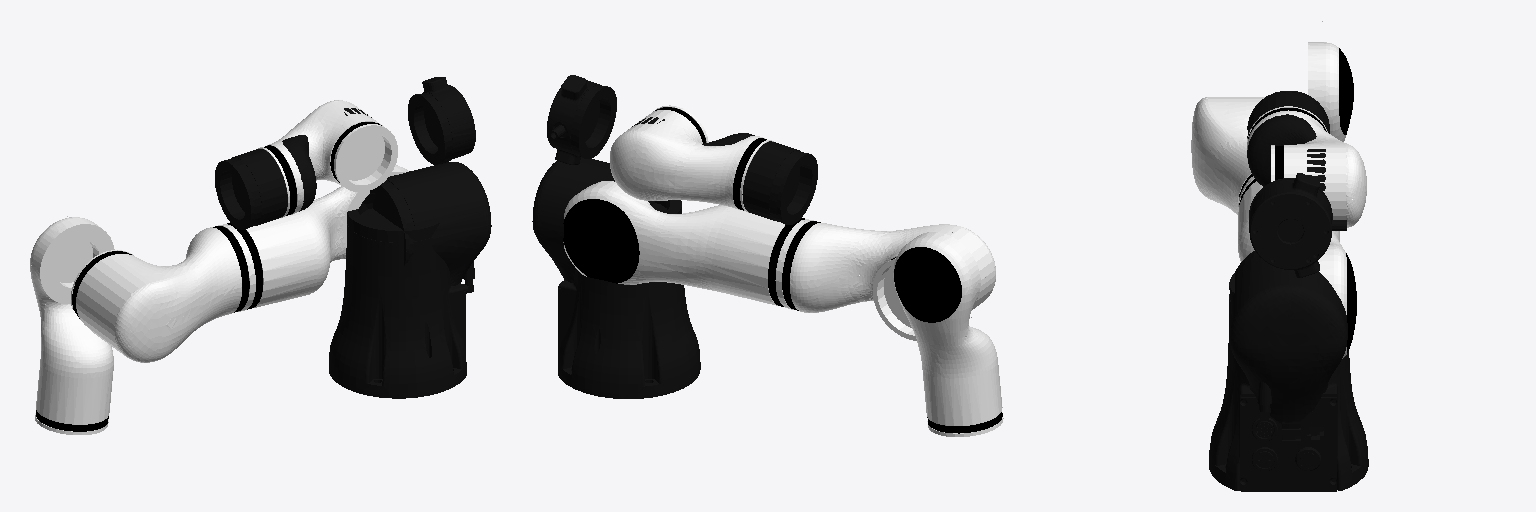
URDF robot description (piper_description):
<?xml version="1.0" ?>
<robot name="piper_description">

  <mujoco>
    <compiler meshdir="meshes" balanceinertia="true" discardvisual="false"/>
  </mujoco>

  <link name="base_link">
    <inertial>
      <origin xyz="-0.00979274765955341 1.82905827587138E-06 0.0410100126360189" rpy="0 0 0"/>
      <mass value="0.162548567403693"/>
      <inertia ixx="0.000226596924525071" ixy="-7.33972270153965E-08" ixz="2.13249977802622E-06" iyy="0.000269444772561524" iyz="8.15169009611054E-09" izz="0.000222318258878636"/>
    </inertial>
    <visual>
      <origin xyz="0 0 0" rpy="0 0 0"/>
      <geometry>
        <mesh filename="meshes/base_link.dae"/>
      </geometry>
      <material name="black">
        <color rgba="0.1 0.1 0.1 1"/>
      </material>
    </visual>
    <collision>
      <origin xyz="0 0 0" rpy="0 0 0"/>
      <geometry>
        <mesh filename="meshes/base_link.STL"/>
      </geometry>
    </collision>
  </link>
  <link name="link1">
    <inertial>
      <origin xyz="0.00131676031927024 0.000310288842008612 -0.00922874512303437" rpy="0 0 0"/>
      <mass value="0.0978679932242825"/>
      <inertia ixx="7.76684558296782E-05" ixy="1.09084650459924E-07" ixz="-1.9748053243241E-06" iyy="9.24967780161547E-05" iyz="9.91284646834582E-07" izz="8.24589062407807E-05"/>
    </inertial>
    <visual>
      <origin xyz="0 0 0" rpy="0 0 0"/>
      <geometry>
        <mesh filename="meshes/link1.dae"/>
      </geometry>
      <material name="black">
        <color rgba="0.1 0.1 0.1 1"/>
      </material>
    </visual>
    <collision>
      <origin xyz="0 0 0" rpy="0 0 0"/>
      <geometry>
        <mesh filename="meshes/link1.STL"/>
      </geometry>
    </collision>
  </link>
  <joint name="joint1" type="revolute">
    <origin xyz="0 0 0.123" rpy="0 0 -1.5708"/>
    <parent link="base_link"/>
    <child link="link1"/>
    <axis xyz="0 0 1"/>
    <limit lower="-2.618" upper="2.618" effort="100" velocity="3"/>
  </joint>
  <link name="link2">
    <inertial>
      <origin xyz="0.148793602378802 -0.00242026983944119 0.00175154638467948" rpy="0 0 0"/>
      <mass value="0.290888938633388"/>
      <inertia ixx="0.000148959640166183" ixy="-7.37750384371657E-05" ixz="-9.68688405196236E-07" iyy="0.00172800946632652" iyz="-1.09692225564224E-06" izz="0.0017754628344594"/>
    </inertial>
    <visual>
      <origin xyz="0 0 0" rpy="0 0 0"/>
      <geometry>
        <mesh filename="meshes/link2.dae"/>
      </geometry>
    </visual>
    <collision>
      <origin xyz="0 0 0" rpy="0 0 0"/>
      <geometry>
        <mesh filename="meshes/link2.STL"/>`
      </geometry>
    </collision>
  </link>
  <joint name="joint2" type="revolute">
    <origin xyz="0 0 0" rpy="1.5708 0 -1.5708"/>
    <parent link="link1"/>
    <child link="link2"/>
    <axis xyz="0 0 1"/>
    <limit lower="0" upper="3.14" effort="100" velocity="3"/>
  </joint>
  <link name="link3">
    <inertial>
      <origin xyz="-0.0996835215213704 0.0349477226691318 0.000508025815507312" rpy="0 0 0"/>
      <mass value="0.290847697793211"/>
      <inertia ixx="0.000107879011637167" ixy="2.92669521203626E-05" ixz="6.825922326238E-07" iyy="0.000214751671792086" iyz="-7.78469047878196E-07" izz="0.000241923439340319"/>
    </inertial>
    <visual>
      <origin xyz="0 0 0" rpy="0 0 0"/>
      <geometry>
        <mesh filename="meshes/link3.dae"/>
      </geometry>
    </visual>
    <collision>
      <origin xyz="0 0 0" rpy="0 0 0"/>
      <geometry>
        <mesh filename="meshes/link3.STL"/>
      </geometry>
    </collision>
  </link>
  <joint name="joint3" type="revolute">
    <origin xyz="0.28358 0.028726 0" rpy="0 0 0.10095"/>
    <parent link="link2"/>
    <child link="link3"/>
    <axis xyz="0 0 1"/>
    <limit lower="-2.697" upper="2.697" effort="100" velocity="3"/>
  </joint>
  <link name="link4">
    <inertial>
      <origin xyz="0.000276464622387979 -0.00102803669324875 -0.00472830700561663" rpy="0 0 0"/>
      <mass value="0.127087348341362"/>
      <inertia ixx="3.82011730423416E-05" ixy="-4.92358350897513E-08" ixz="4.89589432973119E-08" iyy="4.87048555222578E-05" iyz="6.70802942500512E-08" izz="4.10592077565559E-05"/>
    </inertial>
    <visual>
      <origin xyz="0 0 0" rpy="0 0 0"/>
      <geometry>
        <mesh filename="meshes/link4.dae"/>
      </geometry>
    </visual>
    <collision>
      <origin xyz="0 0 0" rpy="0 0 0"/>
      <geometry>
        <mesh filename="meshes/link4.STL"/>
      </geometry>
    </collision>
  </link>
  <joint name="joint4" type="revolute">
    <origin xyz="-0.24221 0.068514 0" rpy="-1.5708 0 1.3826"/>
    <parent link="link3"/>
    <child link="link4"/>
    <axis xyz="0 0 1"/>
    <limit lower="-1.832" upper="1.832" effort="100" velocity="3"/>
  </joint>
  <link name="link5">
    <inertial>
      <origin xyz="8.82262433516967E-05 0.0566829014808256 -0.00196119720482461" rpy="0 0 0"/>
      <mass value="0.144711242639457"/>
      <inertia ixx="4.39644313662493E-05" ixy="-3.59259686444846E-08" ixz="-1.89747741386183E-08" iyy="5.63173920951307E-05" iyz="-2.1540716689785E-07" izz="4.88713664675268E-05"/>
    </inertial>
    <visual>
      <origin xyz="0 0 0" rpy="0 0 0"/>
      <geometry>
        <mesh filename="meshes/link5.dae"/>
      </geometry>
      <material name="black">
        <color rgba="0.1 0.1 0.1 1"/>
      </material>
    </visual>
    <collision>
      <origin xyz="0 0 0" rpy="0 0 0"/>
      <geometry>
        <mesh filename="meshes/link5.STL"/>
      </geometry>
    </collision>
  </link>
  <joint name="joint5" type="revolute">
    <origin xyz="0 0 0" rpy="1.5708 0 0"/>
    <parent link="link4"/>
    <child link="link5"/>
    <axis xyz="0 0 1"/>
    <limit lower="-1.22" upper="1.22" effort="100" velocity="3"/>
  </joint>
  <link name="link6">
    <inertial>
      <origin xyz="0.00103120214523473 0.0121761387587524 0.0315480874960164" rpy="0 0 0"/>
      <mass value="0.195187143240719"/>
      <inertia ixx="6.43790256535539E-05" ixy="-1.2366166157046E-06" ixz="1.97664606328472E-07" iyy="0.000126146396374301" iyz="2.41157078516408E-06" izz="0.000154087076816444"/>
    </inertial>
    <visual>
      <origin xyz="0 0 0" rpy="0 0 1.5708"/>
      <geometry>
        <mesh filename="meshes/link6.dae"/>
      </geometry>
      <material name="black">
        <color rgba="0.1 0.1 0.1 1"/>
      </material>
    </visual>
    <collision>
      <origin xyz="0 0 0" rpy="0 0 0"/>
      <geometry>
        <mesh filename="meshes/link6_1.STL"/>
      </geometry>
    </collision>
  </link>
  <joint name="joint6" type="revolute">
    <origin xyz="0 0.091 0.0014165" rpy="-1.5708 -3.1415926 0"/>
    <parent link="link5"/>
    <child link="link6"/>
    <axis xyz="0 0 1"/>
    <limit lower="-3.14" upper="3.14" effort="100" velocity="3"/>
  </joint>

  <link name="link7">
    <inertial>
      <origin xyz="-0.000277778383727112 -0.0467673043650824 -0.00921029491873201" rpy="0 0 0"/>
      <mass value="0.02648229234527"/>
      <inertia ixx="9.99787479924589E-06" ixy="-1.57548495096104E-07" ixz="-2.71342775003487E-08" iyy="6.1795212293655E-06" iyz="-1.58939803580081E-06" izz="1.42102717246564E-05"/>
    </inertial>
    <visual>
      <origin xyz="0 0 0" rpy="0 0 0"/>
      <geometry>
        <mesh filename="meshes/link7.dae"/>
      </geometry>
      <material name="black">
        <color rgba="0.2 0.2 0.2 1"/>
      </material>
    </visual>
    <collision>
      <origin xyz="0 0 0" rpy="0 0 0"/>
      <geometry>
        <mesh filename="meshes/link7.STL"/>
      </geometry>
    </collision>
  </link>
  <joint name="joint7" type="prismatic">
    <origin xyz="0 0 0.13503" rpy="1.5708 0 3.1415926"/>
    <parent link="link6"/>
    <child link="link7"/>
    <axis xyz="0 0 -1"/>
    <limit lower="0" upper="0.04" effort="10" velocity="1"/>
  </joint>
  <link name="link8">
    <inertial>
      <origin xyz="0.000277816920932317 0.0467673824063769 -0.00921030054508036" rpy="0 0 0"/>
      <mass value="0.0264822021416248"/>
      <inertia ixx="9.99779119357223E-06" ixy="-1.57542283433504E-07" ixz="2.71367446701359E-08" iyy="6.17952441557932E-06" iyz="1.58939319453383E-06" izz="1.4210192754512E-05"/>
    </inertial>
    <visual>
      <origin xyz="0 0 0" rpy="0 0 0"/>
      <geometry>
        <mesh filename="meshes/link8.dae"/>
      </geometry>
      <material name="black">
        <color rgba="0.2 0.2 0.2 1"/>
      </material>
    </visual>
    <collision>
      <origin xyz="0 0 0" rpy="0 0 0"/>
      <geometry>
        <mesh filename="meshes/link8.STL"/>
      </geometry>
    </collision>
  </link>
  <joint name="joint8" type="prismatic">
    <origin xyz="0 0 0.13503" rpy="-1.5708 0 3.1415926"/>
    <parent link="link6"/>
    <child link="link8"/>
    <axis xyz="0 0 -1"/>
    <limit lower="0" upper="0.04" effort="10" velocity="1"/>
    <mimic joint="joint7" multiplier="1" offset="0"/>
  </joint>
</robot>

--- Render facts (derived) ---
The picture shows the robot from 3 angles, left to right: view 1: azimuth 30°, elevation 25°; view 2: azimuth 150°, elevation 25°; view 3: azimuth 270°, elevation 25°; orthographic projection.
Model piper_description with 9 links and 8 joints (6 revolute, 2 prismatic), rooted at base_link, posed every joint at zero.
Visible links, largest first — view 1: link2, base_link, link3, link1, link4, link5, link6; view 2: link2, base_link, link3, link4, link5, link6, link1; view 3: base_link, link1, link2, link6, link4, link5, link3.
Boxes of the visible links, x1,y1,x2,y2 form: link2: (71,165,408,362); base_link: (329,202,474,398); link3: (30,216,114,434); link1: (363,162,491,285); link4: (258,100,397,217); link5: (215,108,371,229); link6: (408,77,475,164); link2: (563,181,995,340); base_link: (558,200,700,398); link3: (893,232,1003,436); link4: (610,105,773,212); link5: (632,117,817,224); link6: (547,75,616,164); link1: (532,157,660,282); base_link: (1209,273,1368,491); link1: (1230,251,1347,439); link2: (1191,97,1356,358); link6: (1249,173,1346,277); link4: (1247,106,1366,227); link5: (1247,91,1329,193); link3: (1308,21,1353,141).
Size in the robot's own frame: 0.3986 by 0.122 by 0.2392 metres.
Meshes: 9 distinct files referenced, 7 mesh visuals loaded (7 Collada DAE); not drawn: 2 (reference not matched to a file when rendering).